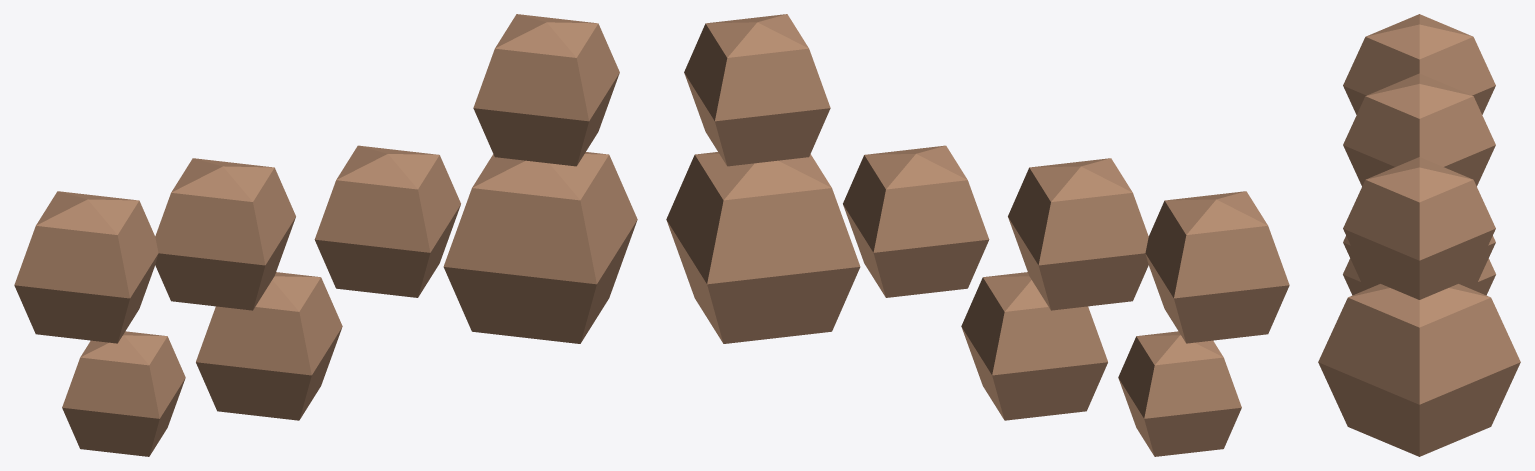
Rendered from Argila_HowPlant.fbx.
The picture shows the model from 3 angles, left to right: view 1: azimuth 30°, elevation 25°; view 2: azimuth 150°, elevation 25°; view 3: azimuth 270°, elevation 25°; orthographic projection. The views are drawn at different scales.
Parts seen in each view (by area): view 1: pSphere5, pSphere8, pSphere6, pSphere9, pSphere7, pSphere4, pSphere1; view 2: pSphere5, pSphere8, pSphere6, pSphere9, pSphere7, pSphere4, pSphere1; view 3: pSphere5, pSphere8, pSphere7, pSphere9, pSphere6, pSphere4.
Boxes of the visible parts, x1,y1,x2,y2 form: pSphere5: [443, 152, 637, 343]; pSphere8: [473, 14, 619, 166]; pSphere6: [314, 145, 460, 297]; pSphere9: [14, 191, 158, 343]; pSphere7: [155, 158, 295, 310]; pSphere4: [196, 272, 342, 420]; pSphere1: [62, 331, 185, 456]; pSphere5: [666, 152, 860, 343]; pSphere8: [684, 14, 830, 166]; pSphere6: [843, 145, 989, 297]; pSphere9: [1145, 191, 1289, 343]; pSphere7: [1008, 158, 1148, 310]; pSphere4: [961, 272, 1107, 420]; pSphere1: [1118, 331, 1241, 456]; pSphere5: [1318, 284, 1520, 456]; pSphere8: [1343, 157, 1495, 299]; pSphere7: [1343, 73, 1495, 186]; pSphere9: [1343, 14, 1495, 114]; pSphere6: [1343, 236, 1495, 289]; pSphere4: [1343, 258, 1495, 295].
Bounding box in the file's own units: 2.23 × 1.12 × 0.697.
